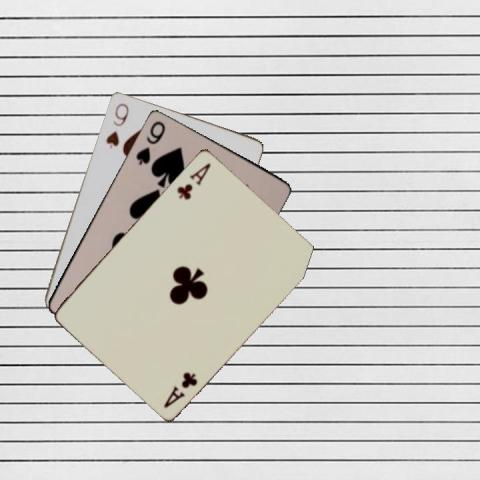9s: (132, 117, 166, 166), (102, 100, 130, 150)
Ac: (173, 159, 212, 201), (161, 369, 199, 409)
